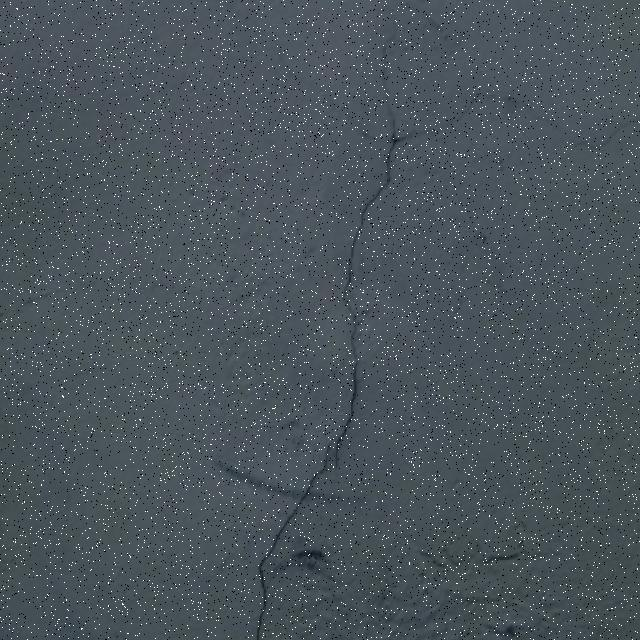moderate crack: (328, 301, 368, 479), (255, 544, 328, 639), (216, 460, 335, 498), (421, 540, 521, 571)
severe crack: (244, 128, 395, 640)
